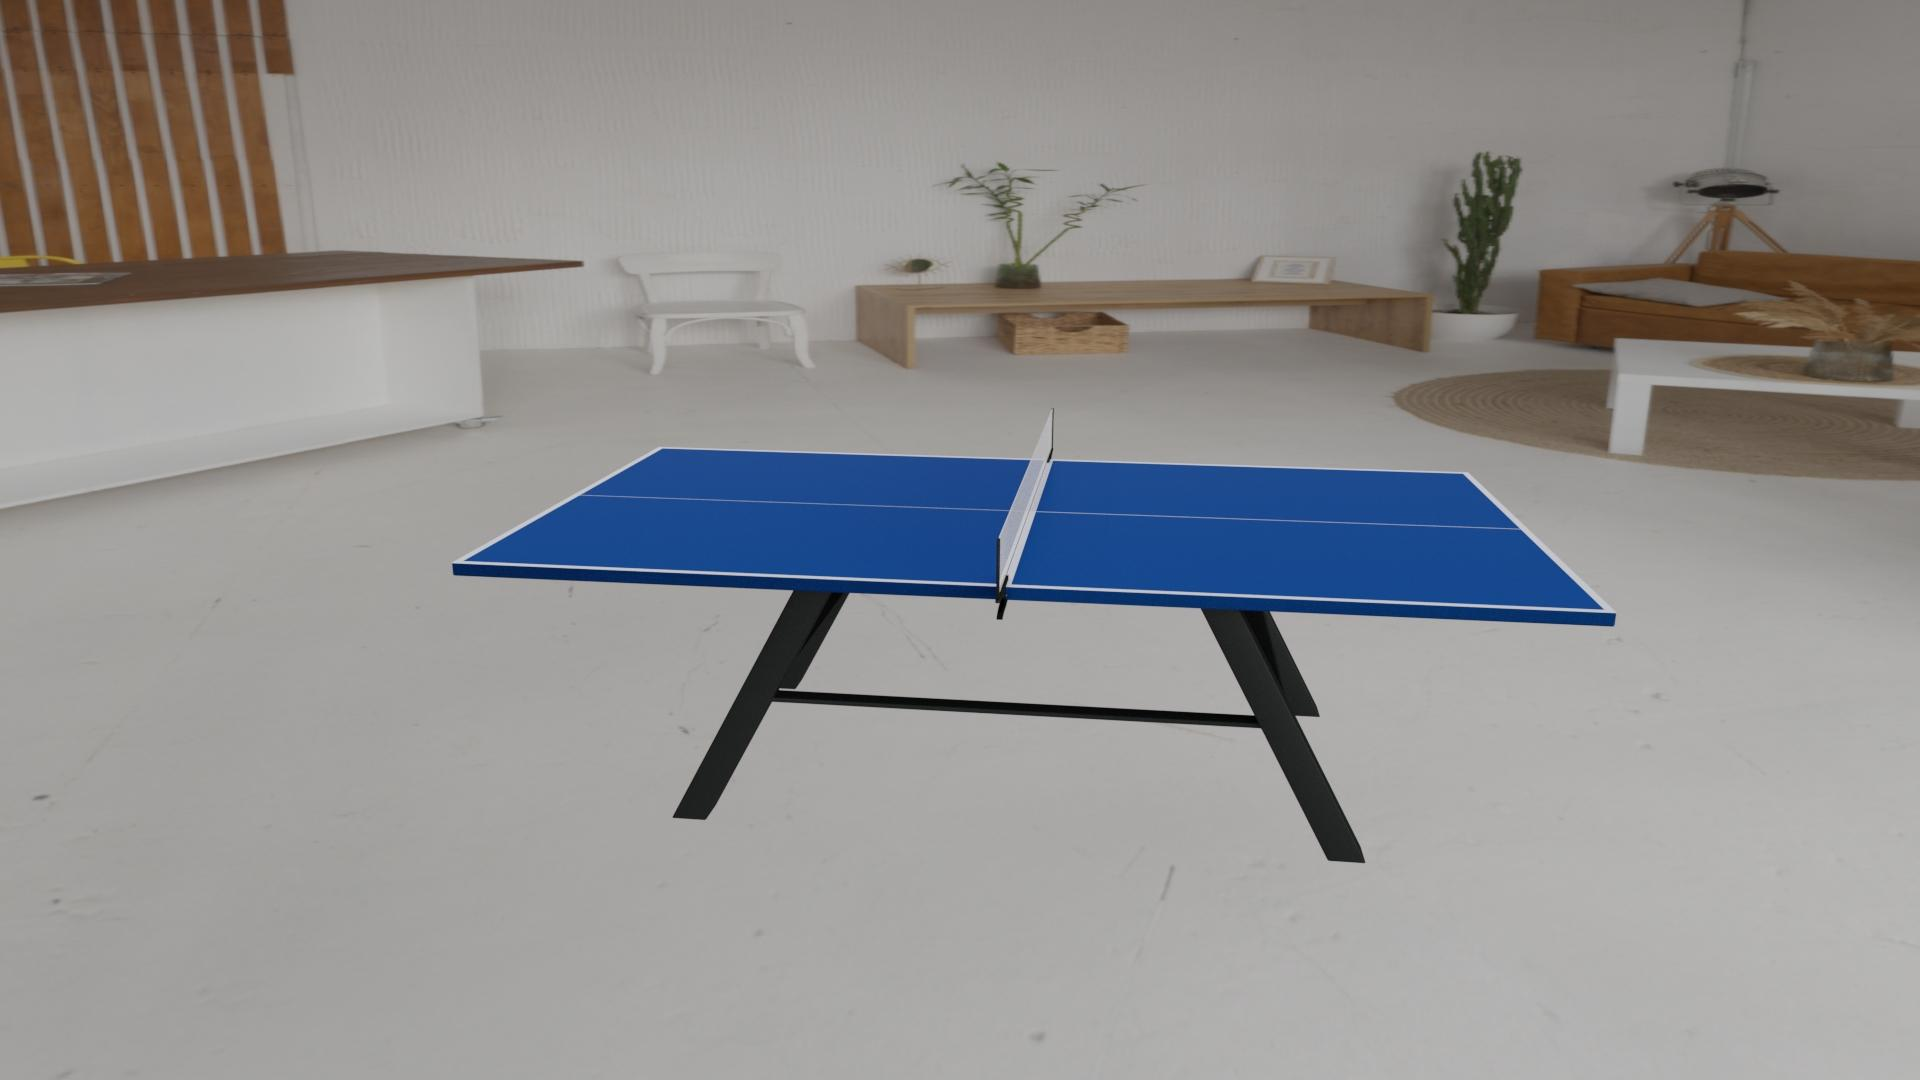table: (463, 448, 1605, 611)
